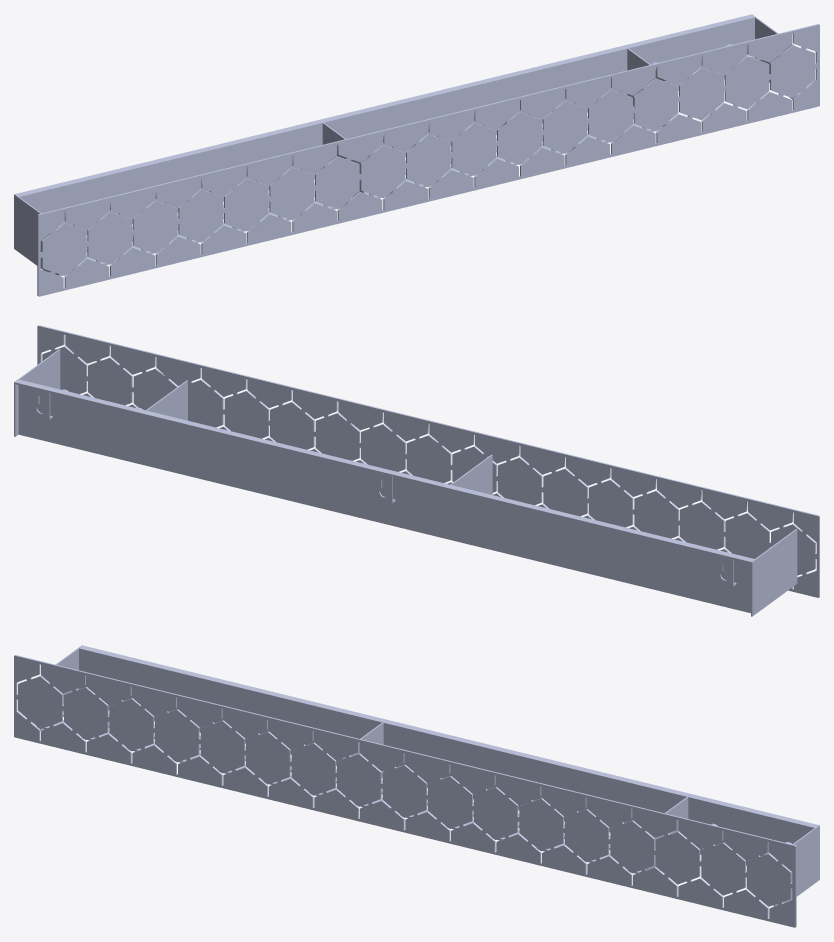
Rendered from bee-patron.bd298b56f0.glb.
3 views of the same model, one above another, from view 1: azimuth 30°, elevation 25°; view 2: azimuth 150°, elevation 25°; view 3: azimuth 330°, elevation 25° (orthographic).
Visible parts, largest first — view 1: NAUO1; view 2: NAUO1; view 3: NAUO1.
Part boxes in pixels (x1,y1,x2,y2): NAUO1: (14, 14, 819, 296); NAUO1: (14, 325, 819, 616); NAUO1: (14, 645, 819, 927).
Bounding box in the file's own units: 0.9 × 0.09 × 0.092.
